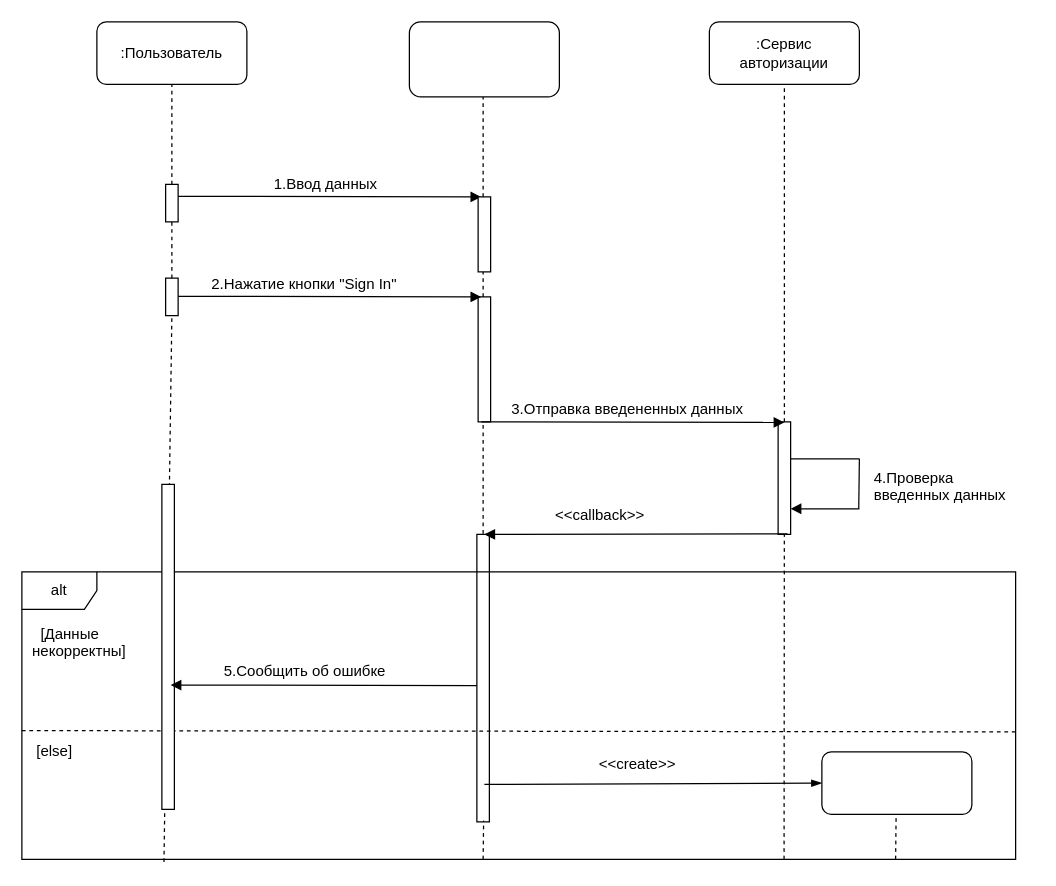
This 1056x886 diagram has some shape labels left out. Here are the shapes that lost their labels. From the top down, the centre of each, then its label:
At (x=483, y=59): ":Окно авторизации".
At (x=896, y=782): ":Окно с личным кабинетом пользователя".
